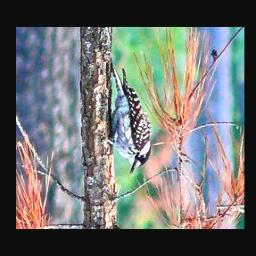Woodpecker: (95, 55, 159, 180)
